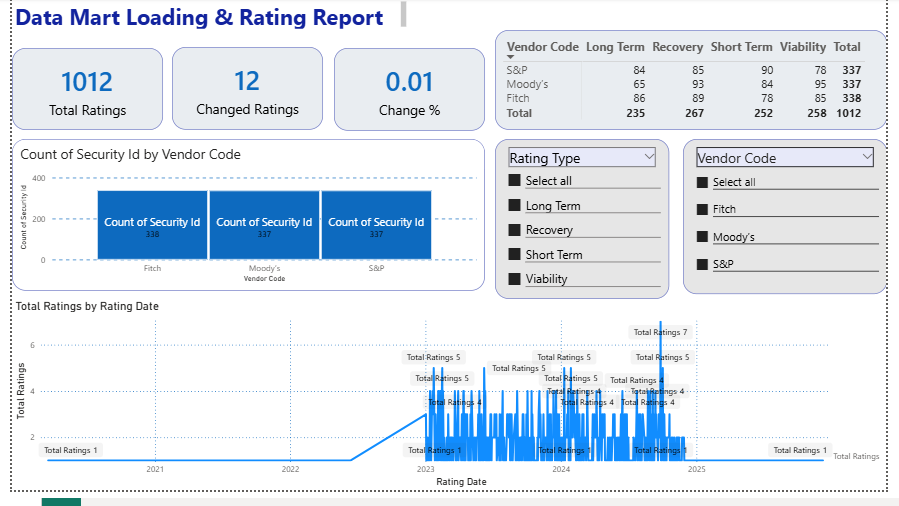

Layout of this report page (visuals, bound fields, positions):
{"tool":"powerbi","page":{"name":"Page 1","canvas":[1280,720],"ordinal":0},"visuals":[{"type":"lineChart","fields":{"Y":["Master.Total Ratings"],"Category":["Master.Rating Date"]},"box":[0,440.5,1280.5,279.5],"z":0},{"type":"card","fields":{"Values":["Master.Total Ratings"]},"box":[0,73.2,221,120],"z":1000},{"type":"card","fields":{"Values":["Master.Changed Ratings"]},"box":[234.1,71.7,221,121.5],"z":2000},{"type":"card","fields":{"Values":["Master.Change %"]},"box":[471.2,73.2,221,121.5],"z":3000},{"type":"pivotTable","fields":{"Rows":["Master.Vendor Code"],"Columns":["Master.Rating Type"],"Values":["CountNonNull(Master.Rating Code)"]},"box":[706.8,46.8,573.7,146.3],"z":4000},{"type":"clusteredColumnChart","fields":{"Category":["Master.Vendor Code"],"Y":["CountNonNull(Master.Security Id)"]},"box":[0,206.3,692.2,222.4],"z":5000},{"type":"slicer","fields":{"Values":["Master.Vendor Code"]},"box":[982,206.3,298.5,226.8],"z":6000},{"type":"slicer","fields":{"Values":["Master.Rating Type"]},"box":[706.8,206.3,254.6,234.1],"z":7000},{"type":"textbox","box":[0,0,582.4,49.8],"z":8000}]}

Visuals, with their boxes in screenshot pixels (x1, y1, x2, y2), scaled from the page's 1280x720 canvas onto the 899x506 screenshot:
lineChart - Master.Total Ratings x Master.Rating Date: bbox=(0, 310, 898, 505)
card - Master.Total Ratings: bbox=(0, 51, 155, 136)
card - Master.Changed Ratings: bbox=(164, 50, 320, 136)
card - Master.Change %: bbox=(331, 51, 486, 137)
pivotTable - Master.Vendor Code x Master.Rating Type: bbox=(496, 33, 898, 136)
clusteredColumnChart - Master.Vendor Code x CountNonNull(Master.Security Id): bbox=(0, 145, 486, 301)
slicer - Master.Vendor Code: bbox=(690, 145, 898, 304)
slicer - Master.Rating Type: bbox=(496, 145, 675, 310)
textbox: bbox=(0, 0, 409, 35)
